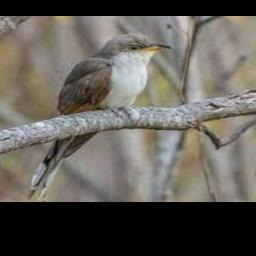Cuckoo: (24, 33, 173, 200)
